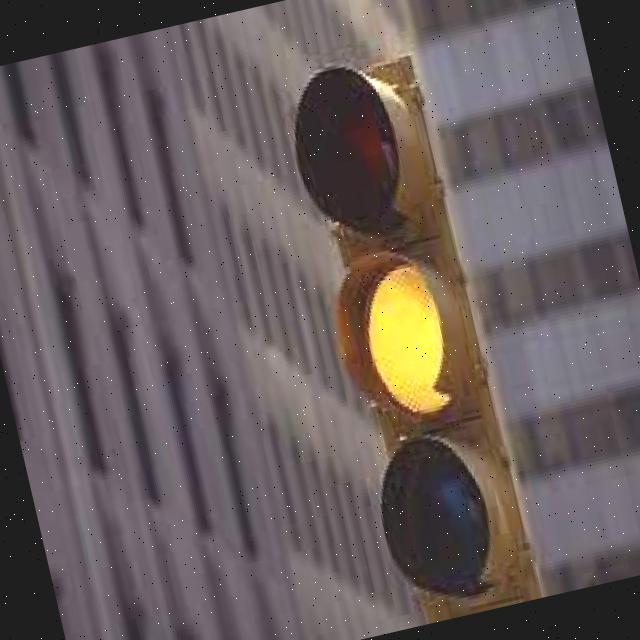yellow_light: (278, 50, 536, 615)
